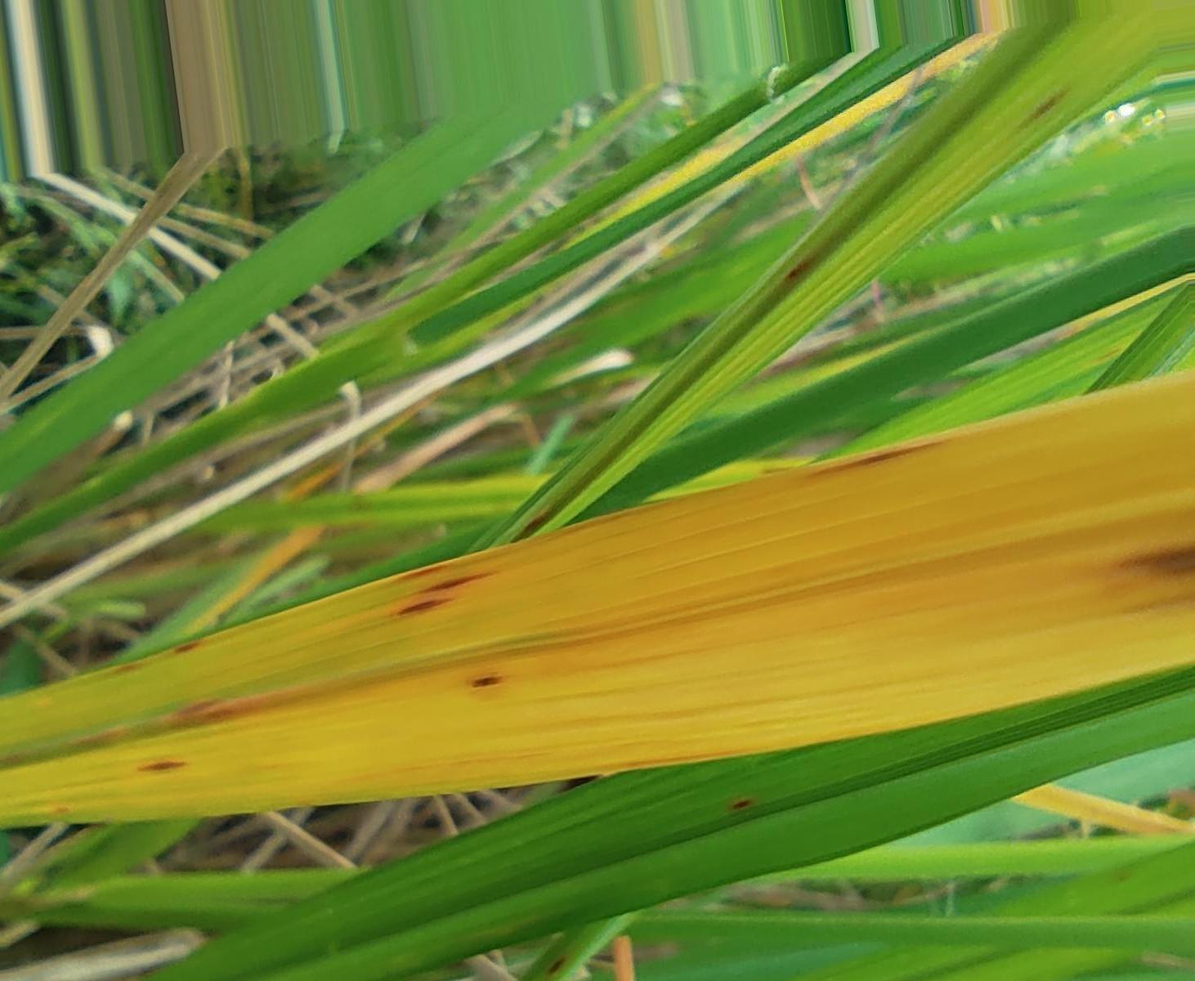LEAF: (0, 373, 1194, 826)
NBS: (818, 441, 937, 475), (1128, 543, 1194, 576), (162, 697, 220, 724), (421, 574, 486, 591), (71, 727, 124, 746), (399, 598, 450, 614), (405, 563, 451, 577), (200, 708, 236, 724), (138, 760, 186, 771), (104, 663, 141, 677), (471, 674, 502, 688), (405, 601, 441, 611), (173, 640, 202, 652)
